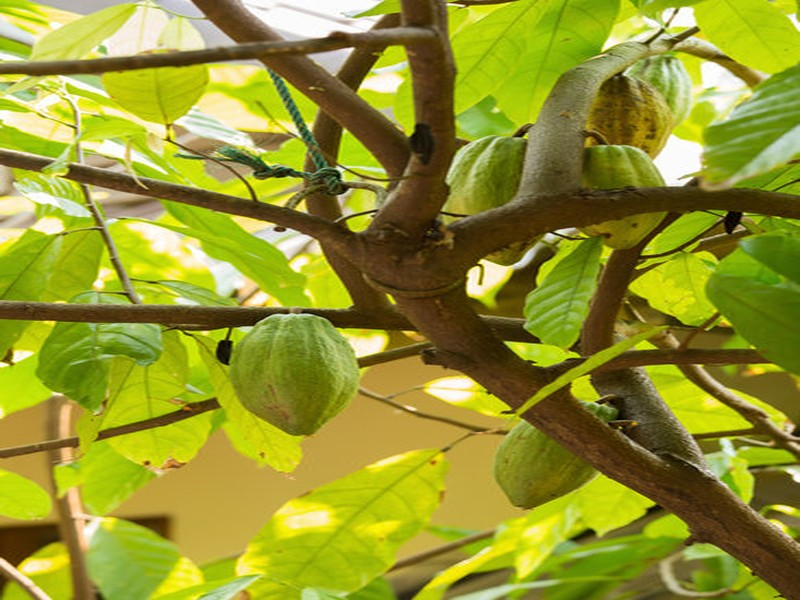Cacaopod: (230, 311, 362, 438)
